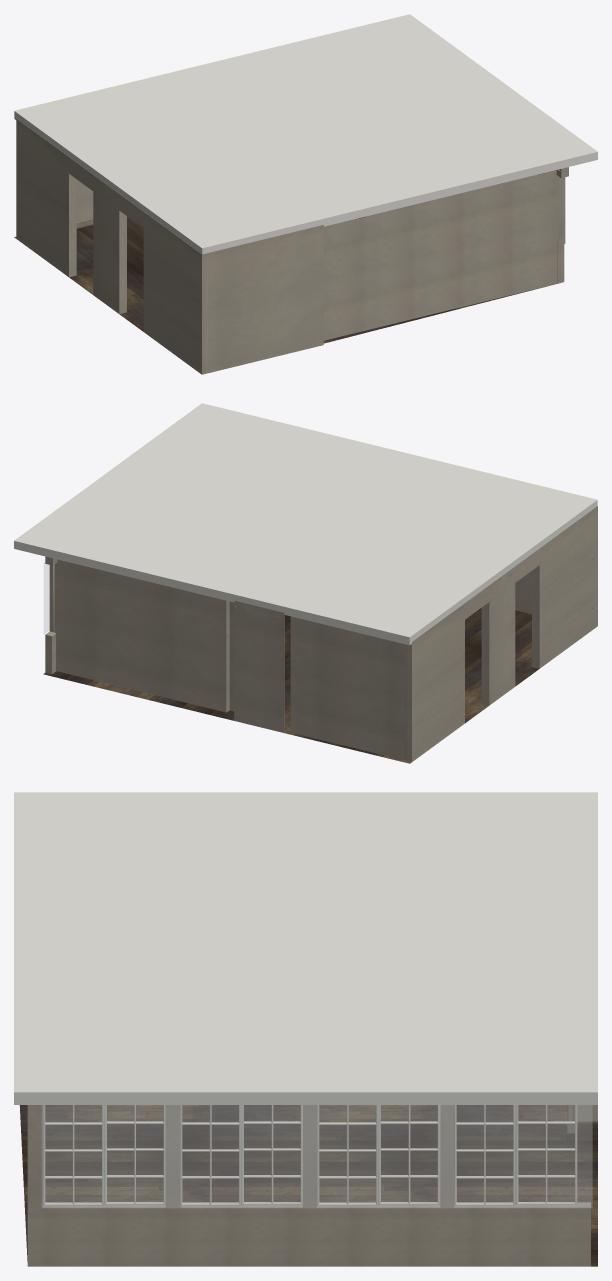
Rendered from classroom-shell.glb.
3 renders of one model, top to bottom at view 1: azimuth 30°, elevation 25°; view 2: azimuth 150°, elevation 25°; view 3: azimuth 270°, elevation 25°, orthographic. The views are drawn at different scales.
Parts seen in each view (by area): view 1: ceiling__export, wall.010__export, wall.009__export, wall.005__export, sol__export, wall.006__export, wall.004__export; view 2: ceiling__export, wall.008__export, wall.009__export, wall.006__export, sol__export, wall.005__export, wall.007__export; view 3: ceiling__export, windows__export, sol__export, wall.007__export, wall.003__export, wall.004__export, woodWindow__export, woodWindow.004__export, woodWindow.007__export, woodWindow.002__export, woodWindow.005__export, woodWindow.003__export (+4 smaller).
Boxes of the visible parts, x1=… form: ceiling__export: x1=14, y1=14, x2=597, y2=254; wall.010__export: x1=323, y1=170, x2=564, y2=340; wall.009__export: x1=16, y1=118, x2=209, y2=374; wall.005__export: x1=209, y1=225, x2=323, y2=372; sol__export: x1=14, y1=216, x2=553, y2=343; wall.006__export: x1=76, y1=179, x2=93, y2=222; wall.004__export: x1=558, y1=176, x2=565, y2=245; ceiling__export: x1=14, y1=403, x2=597, y2=645; wall.008__export: x1=49, y1=559, x2=284, y2=732; wall.009__export: x1=404, y1=506, x2=597, y2=761; wall.006__export: x1=290, y1=616, x2=404, y2=760; sol__export: x1=43, y1=608, x2=538, y2=763; wall.005__export: x1=515, y1=571, x2=531, y2=614; wall.007__export: x1=45, y1=631, x2=56, y2=674; ceiling__export: x1=14, y1=792, x2=597, y2=1104; windows__export: x1=42, y1=1105, x2=592, y2=1207; sol__export: x1=19, y1=1105, x2=597, y2=1266; wall.007__export: x1=27, y1=1202, x2=590, y2=1266; wall.003__export: x1=165, y1=1105, x2=180, y2=1208; wall.004__export: x1=27, y1=1105, x2=42, y2=1208; woodWindow__export: x1=42, y1=1105, x2=104, y2=1205; woodWindow.004__export: x1=378, y1=1105, x2=440, y2=1204; woodWindow.007__export: x1=515, y1=1105, x2=577, y2=1204; woodWindow.002__export: x1=180, y1=1105, x2=241, y2=1205; woodWindow.005__export: x1=317, y1=1105, x2=378, y2=1205; woodWindow.003__export: x1=241, y1=1105, x2=302, y2=1204.
Bounding box in the file's own units: 10.17 × 3.1 × 8.37.
9 materials, 5 textured.
